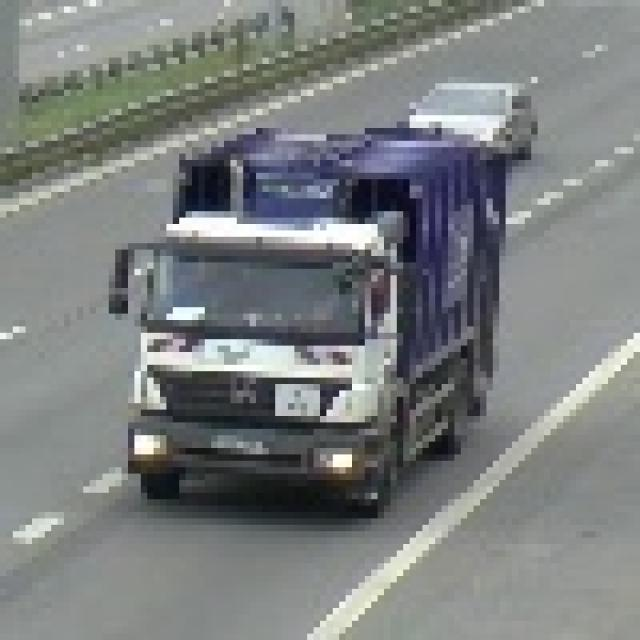truck: (96, 108, 506, 506)
